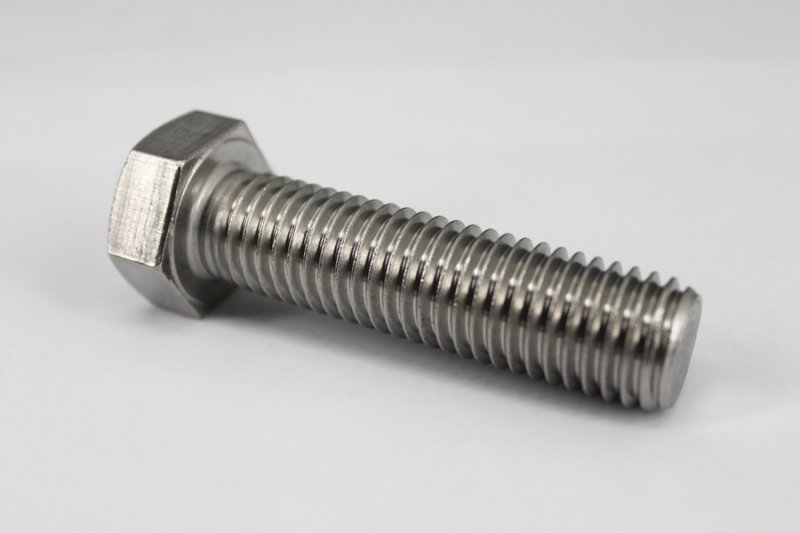screw: (107, 110, 703, 413)
